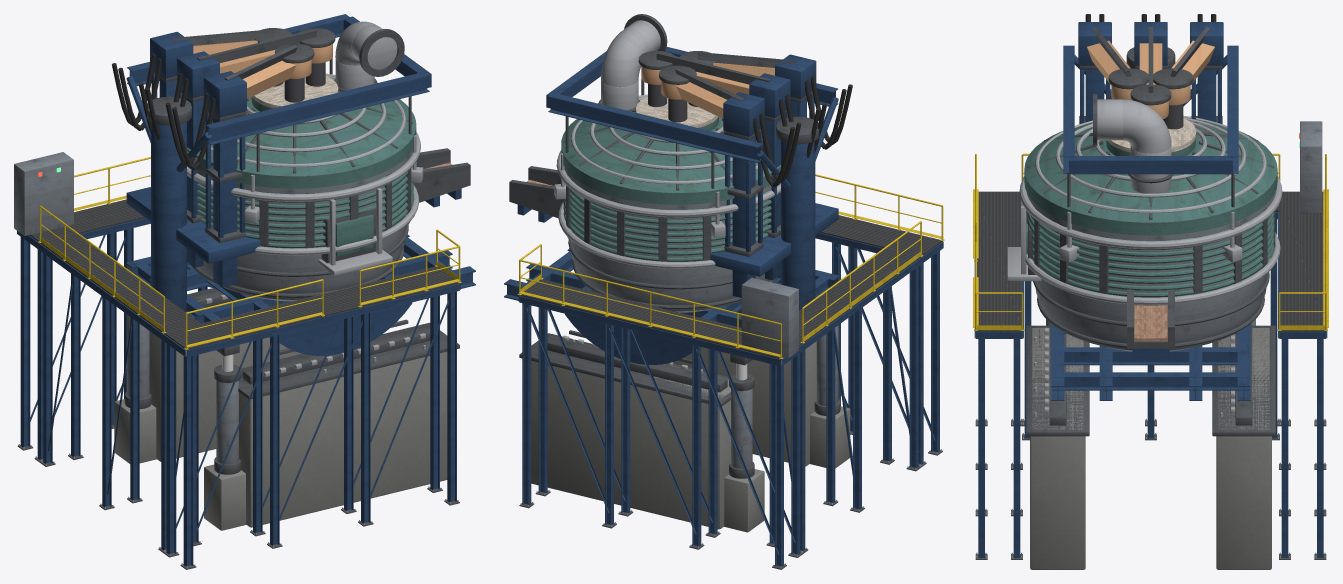
The model's file is eaf.glb.
The picture shows the model from 3 angles, left to right: view 1: azimuth 30°, elevation 25°; view 2: azimuth 150°, elevation 25°; view 3: azimuth 270°, elevation 25°; orthographic projection. The views are drawn at different scales.
Parts seen in each view (by area): view 1: platform_geo, foundation_geo, roofPivot_geo, tilt_geo, electrode_2_geo, electrode_1_geo, electrode_3_geo; view 2: platform_geo, foundation_geo, roofPivot_geo, tilt_geo, electrode_3_geo, electrode_1_geo, electrode_2_geo; view 3: tilt_geo, roofPivot_geo, platform_geo, foundation_geo, electrode_3_geo, electrode_2_geo, electrode_1_geo.
Boxes of the visible parts, box(x1,y1,x2,y2) form: platform_geo: box(14, 152, 461, 569); foundation_geo: box(114, 288, 459, 530); roofPivot_geo: box(126, 14, 431, 312); tilt_geo: box(125, 132, 475, 371); electrode_2_geo: box(165, 43, 314, 287); electrode_1_geo: box(138, 28, 335, 267); electrode_3_geo: box(112, 28, 292, 130); platform_geo: box(517, 174, 944, 569); foundation_geo: box(519, 309, 850, 532); roofPivot_geo: box(546, 14, 838, 310); tilt_geo: box(504, 150, 839, 380); electrode_3_geo: box(659, 65, 801, 297); electrode_1_geo: box(638, 51, 826, 280); electrode_2_geo: box(680, 51, 852, 149); tilt_geo: box(1007, 176, 1282, 400); roofPivot_geo: box(1024, 45, 1277, 235); platform_geo: box(973, 121, 1328, 559); foundation_geo: box(1026, 319, 1275, 569); electrode_3_geo: box(1153, 14, 1223, 129); electrode_2_geo: box(1078, 14, 1148, 121); electrode_1_geo: box(1130, 14, 1171, 119).
Size of the model in its own units: 11.7 by 13.43 by 9.55.
20 materials, 15 textured.
